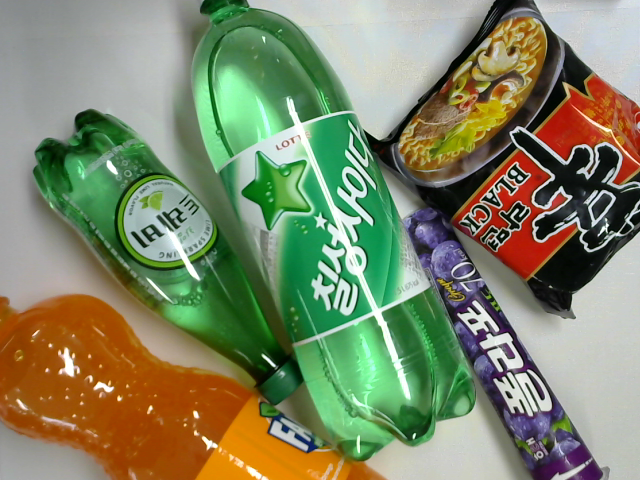Chilseong_Cider_1.5L: (180, 1, 479, 465)
Hwanta_Orange_1.5L: (1, 271, 390, 480)
Polapo_Grape: (401, 201, 617, 480)
Sinramen_Black: (357, 1, 639, 327)
Treviraim_500ml: (21, 107, 309, 415)
